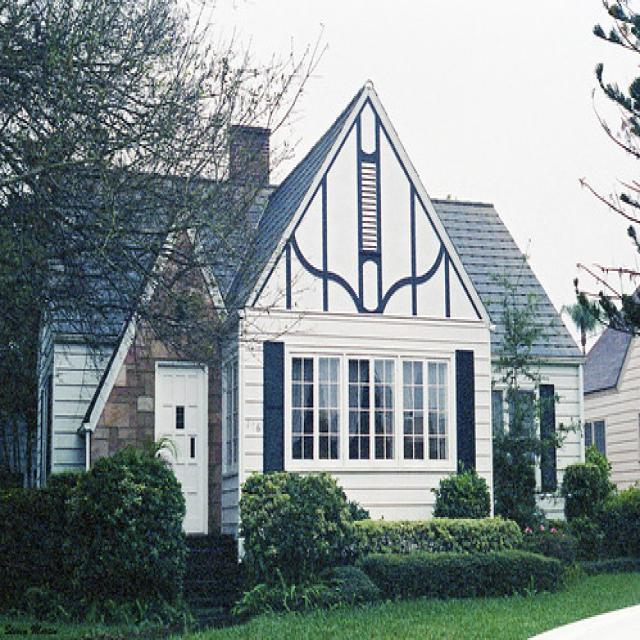building: (17, 80, 590, 578)
